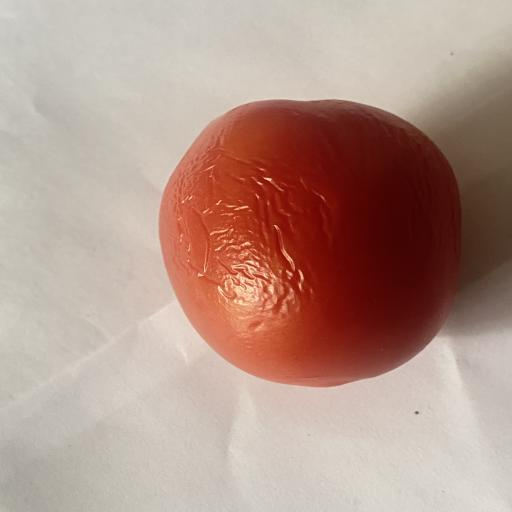spoiled: (160, 100, 460, 387)
